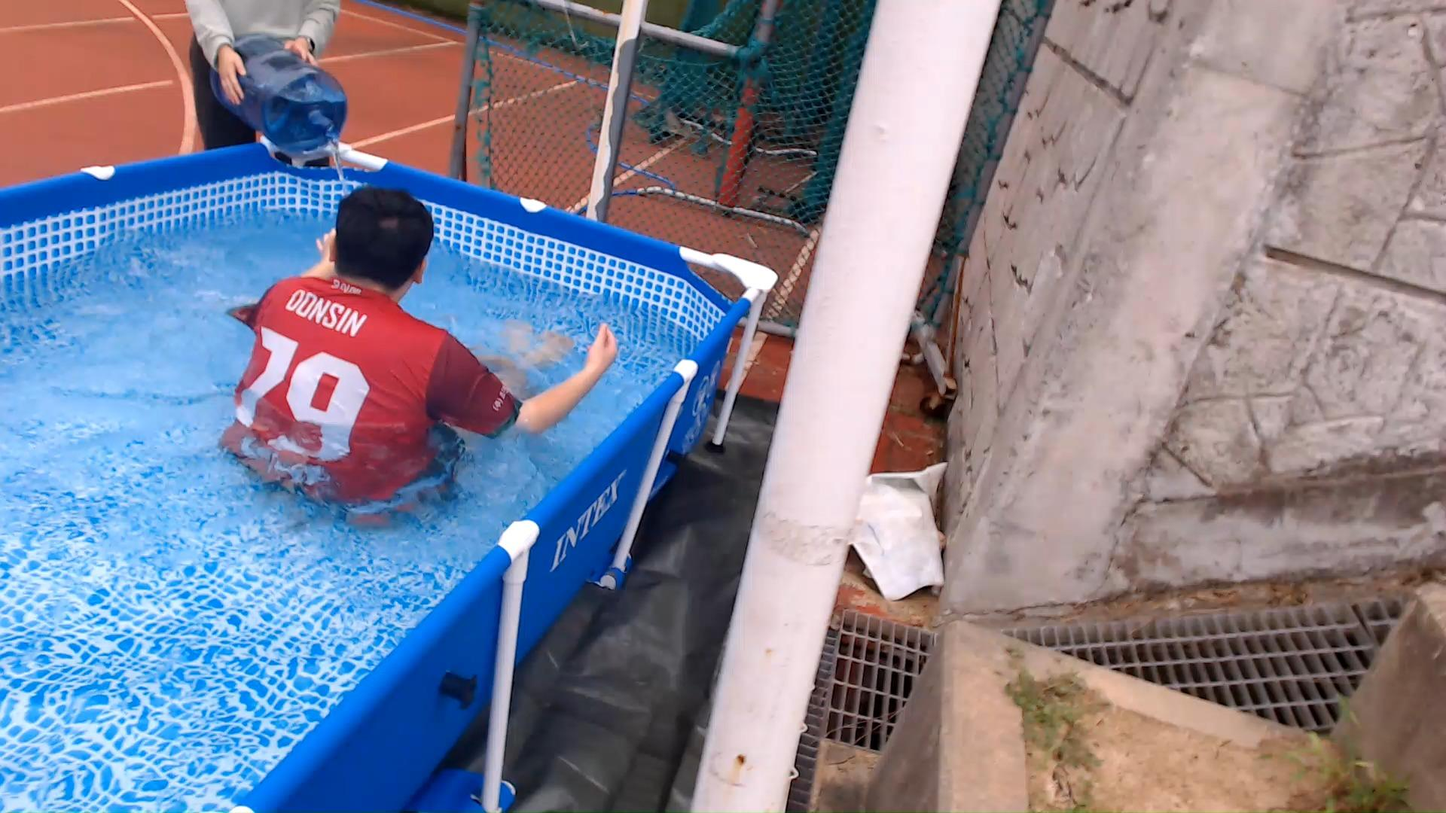Swimming: (192, 179, 626, 531)
